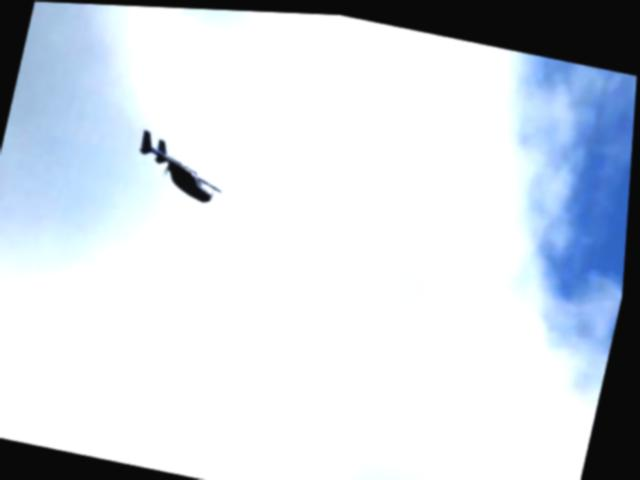uav: (127, 124, 240, 214)
